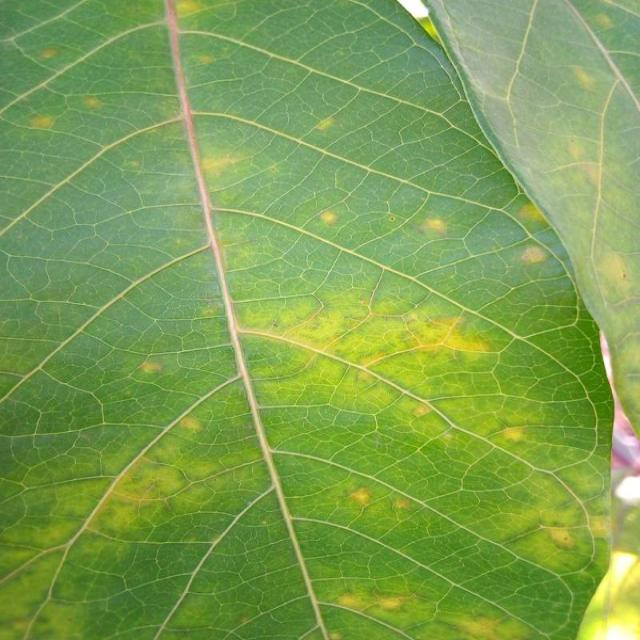cassava leaf: (0, 0, 625, 638), (422, 0, 640, 443)
